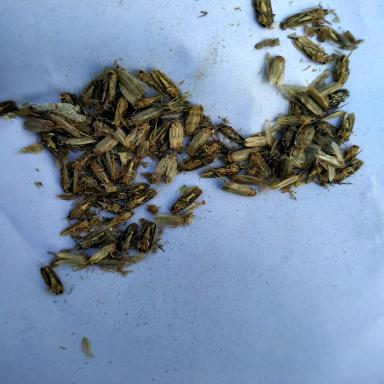pbw: (285, 4, 340, 29), (331, 148, 367, 186), (113, 60, 148, 99), (292, 36, 336, 66), (34, 256, 66, 296), (120, 185, 166, 212), (186, 122, 221, 156), (60, 194, 98, 225), (150, 67, 184, 101), (212, 174, 260, 197), (145, 119, 173, 158), (167, 185, 203, 215), (135, 69, 170, 97), (219, 144, 265, 165), (73, 227, 112, 251), (98, 209, 137, 233), (112, 182, 154, 204), (316, 140, 349, 168), (84, 158, 114, 188), (36, 131, 68, 159), (49, 113, 81, 140), (151, 152, 178, 184), (57, 89, 90, 115), (312, 23, 349, 46), (305, 76, 330, 110), (296, 90, 326, 118), (177, 154, 217, 174), (117, 156, 142, 188), (293, 124, 317, 157), (197, 162, 246, 178), (68, 147, 98, 173), (323, 87, 354, 112), (215, 122, 246, 147), (298, 159, 328, 184), (116, 221, 139, 253), (184, 103, 206, 136), (88, 136, 118, 160), (332, 49, 352, 85), (192, 138, 226, 159), (315, 120, 349, 141), (168, 120, 188, 155), (126, 119, 150, 148), (251, 0, 275, 29), (159, 97, 192, 118), (87, 241, 117, 264), (98, 148, 119, 180), (137, 220, 158, 252), (312, 131, 342, 153), (132, 92, 168, 110), (112, 96, 131, 130), (59, 218, 93, 237), (116, 83, 144, 106), (92, 196, 124, 216), (334, 111, 356, 140), (126, 108, 157, 128), (56, 136, 100, 150), (64, 115, 96, 134), (277, 124, 297, 154), (249, 151, 272, 177), (78, 171, 101, 197), (90, 117, 117, 139), (100, 70, 118, 103), (284, 89, 304, 118), (270, 55, 286, 91), (271, 114, 318, 126), (269, 173, 302, 190), (227, 172, 267, 186), (53, 252, 93, 266), (112, 127, 134, 152), (21, 118, 60, 132), (152, 212, 184, 229), (276, 148, 294, 178), (313, 109, 345, 124), (83, 110, 115, 125), (56, 165, 72, 193), (289, 145, 308, 168), (76, 82, 100, 100), (316, 80, 343, 96), (318, 163, 338, 183), (66, 168, 82, 193), (313, 151, 334, 170), (50, 248, 72, 266), (244, 136, 276, 147), (13, 107, 44, 118), (93, 102, 116, 116), (72, 257, 92, 273), (136, 138, 150, 160), (94, 258, 128, 267), (342, 144, 360, 160)
